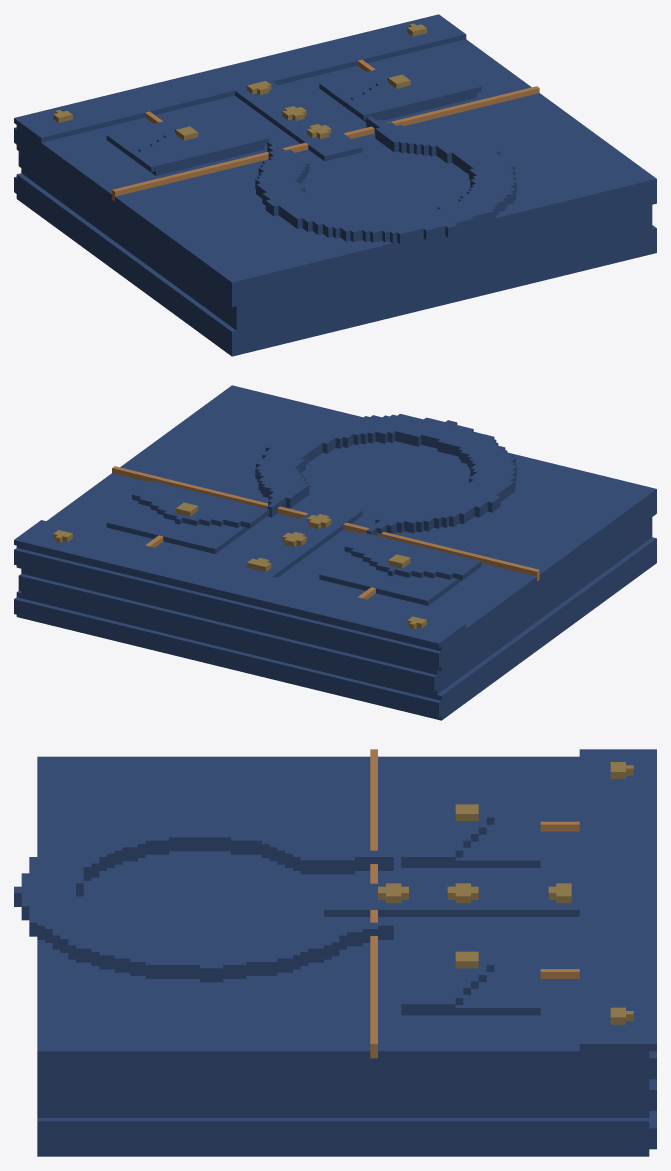
The model's file is jacket_jean.glb.
The picture shows the model from 3 angles, top to bottom: view 1: azimuth 30°, elevation 25°; view 2: azimuth 150°, elevation 25°; view 3: azimuth 270°, elevation 25°; orthographic projection. The views are drawn at different scales.
Visible parts, largest first — view 1: jacket_jean:compound; view 2: jacket_jean:compound; view 3: jacket_jean:compound.
Part boxes in pixels (x1,y1,x2,y2): jacket_jean:compound: (14,14,656,356); jacket_jean:compound: (14,385,656,720); jacket_jean:compound: (14,749,656,1156).
Bounding box in the file's own units: 0.36 × 0.072 × 0.332.
